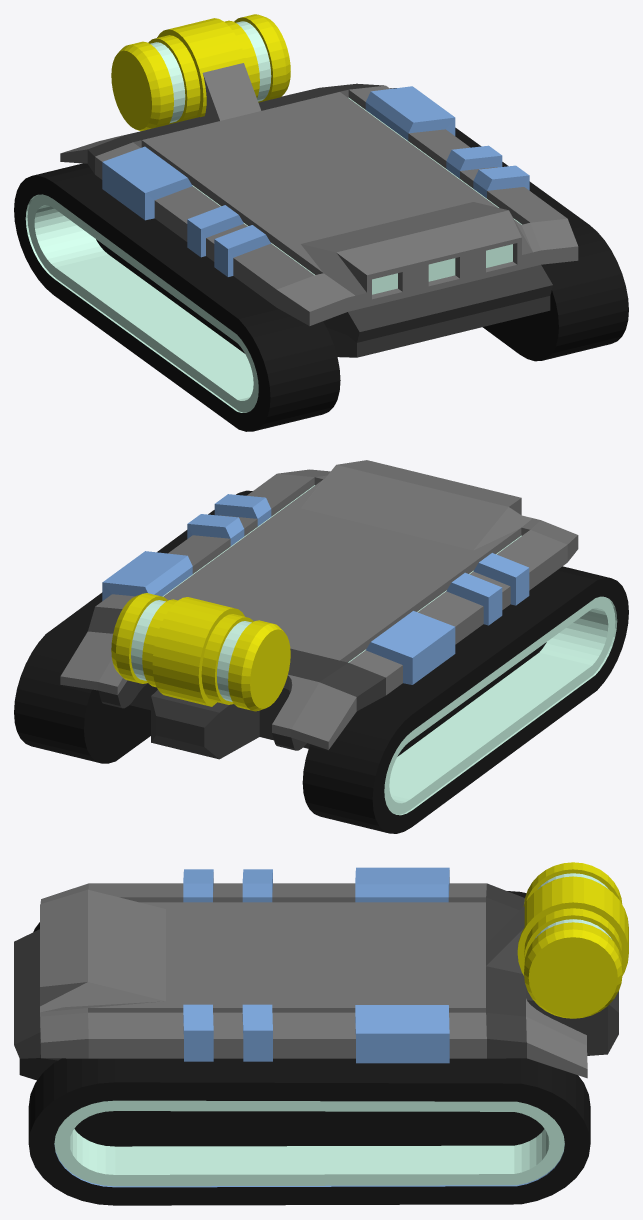
The model's file is bottomV1.fbx.
3 views of the same model, one above another, from view 1: azimuth 30°, elevation 25°; view 2: azimuth 150°, elevation 25°; view 3: azimuth 270°, elevation 25° (orthographic). The views are drawn at different scales.
Visible parts, largest first — view 1: Cylinder.001; view 2: Cylinder.001; view 3: Cylinder.001.
Boxes of the visible parts, x1,y1,x2,y2 form: Cylinder.001: (14, 14, 628, 431); Cylinder.001: (14, 460, 628, 833); Cylinder.001: (14, 862, 628, 1205).
Size of the model in its own units: 322 by 172 by 437.
